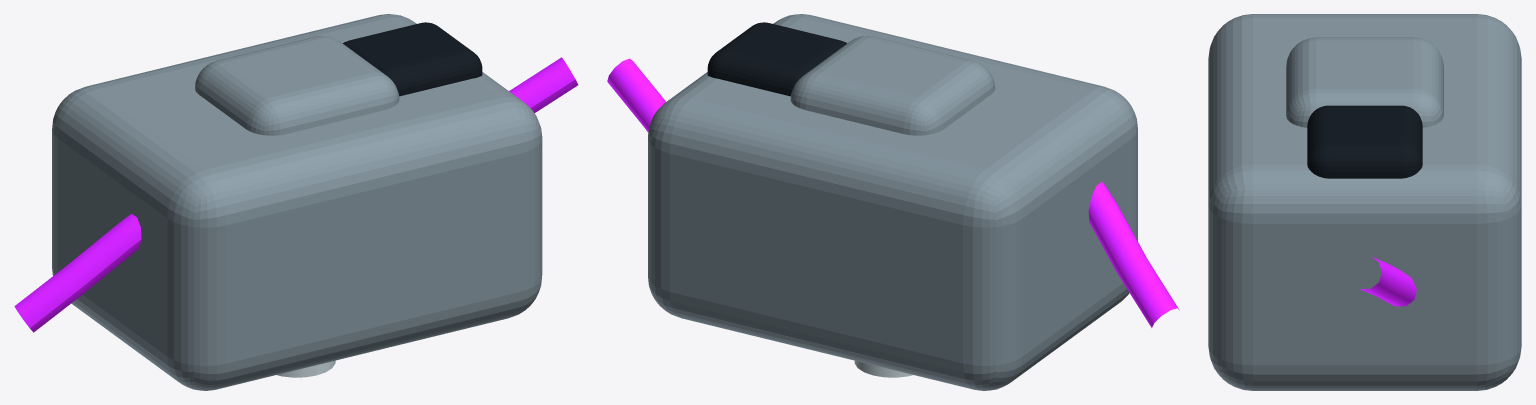
The model's file is electrical_18.glb.
3 renders of one model, left to right at view 1: azimuth 30°, elevation 25°; view 2: azimuth 150°, elevation 25°; view 3: azimuth 270°, elevation 25°, orthographic. The views are drawn at different scales.
Visible parts, largest first — view 1: asset_mesh__electrical_0998__reference_body, asset_mesh__electrical_0996__sensor_body, asset_mesh__electrical_1015__current_path, asset_mesh__electrical_0996__connector; view 2: asset_mesh__electrical_0998__reference_body, asset_mesh__electrical_0996__sensor_body, asset_mesh__electrical_1015__current_path, asset_mesh__electrical_0996__connector; view 3: asset_mesh__electrical_0998__reference_body, asset_mesh__electrical_0996__sensor_body, asset_mesh__electrical_0996__connector, asset_mesh__electrical_1015__current_path.
Boxes of the visible parts, left/top/right/bottom form: asset_mesh__electrical_0998__reference_body: left=52, top=14, right=542, bottom=390; asset_mesh__electrical_0996__sensor_body: left=195, top=35, right=399, bottom=135; asset_mesh__electrical_1015__current_path: left=14, top=57, right=578, bottom=332; asset_mesh__electrical_0996__connector: left=343, top=22, right=482, bottom=96; asset_mesh__electrical_0998__reference_body: left=648, top=14, right=1137, bottom=390; asset_mesh__electrical_0996__sensor_body: left=790, top=35, right=995, bottom=135; asset_mesh__electrical_1015__current_path: left=607, top=58, right=1179, bottom=327; asset_mesh__electrical_0996__connector: left=707, top=22, right=846, bottom=96; asset_mesh__electrical_0998__reference_body: left=1208, top=14, right=1521, bottom=390; asset_mesh__electrical_0996__sensor_body: left=1286, top=37, right=1443, bottom=127; asset_mesh__electrical_0996__connector: left=1307, top=105, right=1422, bottom=178; asset_mesh__electrical_1015__current_path: left=1360, top=256, right=1416, bottom=306.
Size of the model in its own units: 1.64 by 0.8175 by 0.7728.
